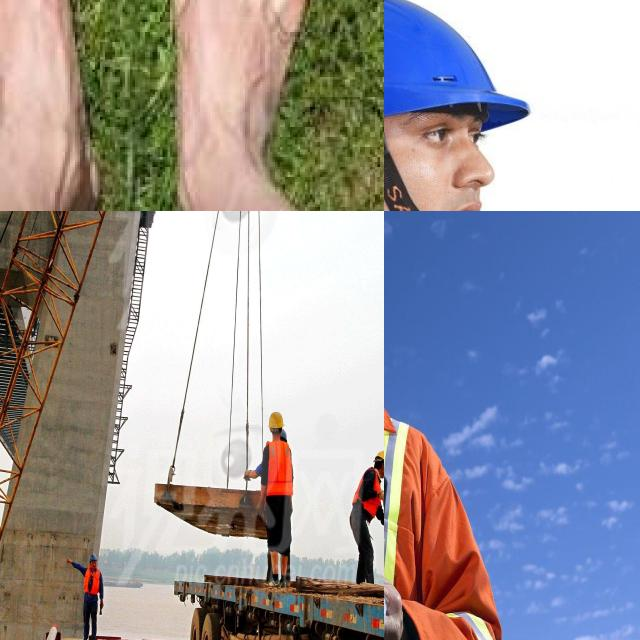Barefoots: (161, 0, 337, 211), (0, 0, 122, 211)
hand_glove: (242, 462, 260, 492), (64, 556, 76, 570)
head_helmet: (384, 0, 533, 133), (267, 410, 286, 427), (374, 448, 384, 470), (279, 428, 289, 441), (87, 552, 98, 562)
person: (384, 0, 590, 211), (259, 411, 292, 585), (350, 448, 384, 585), (81, 551, 101, 640)
shoes: (261, 572, 278, 592), (277, 573, 289, 591), (81, 632, 88, 640)
vest: (260, 440, 296, 500), (350, 465, 382, 523), (81, 563, 102, 597)
